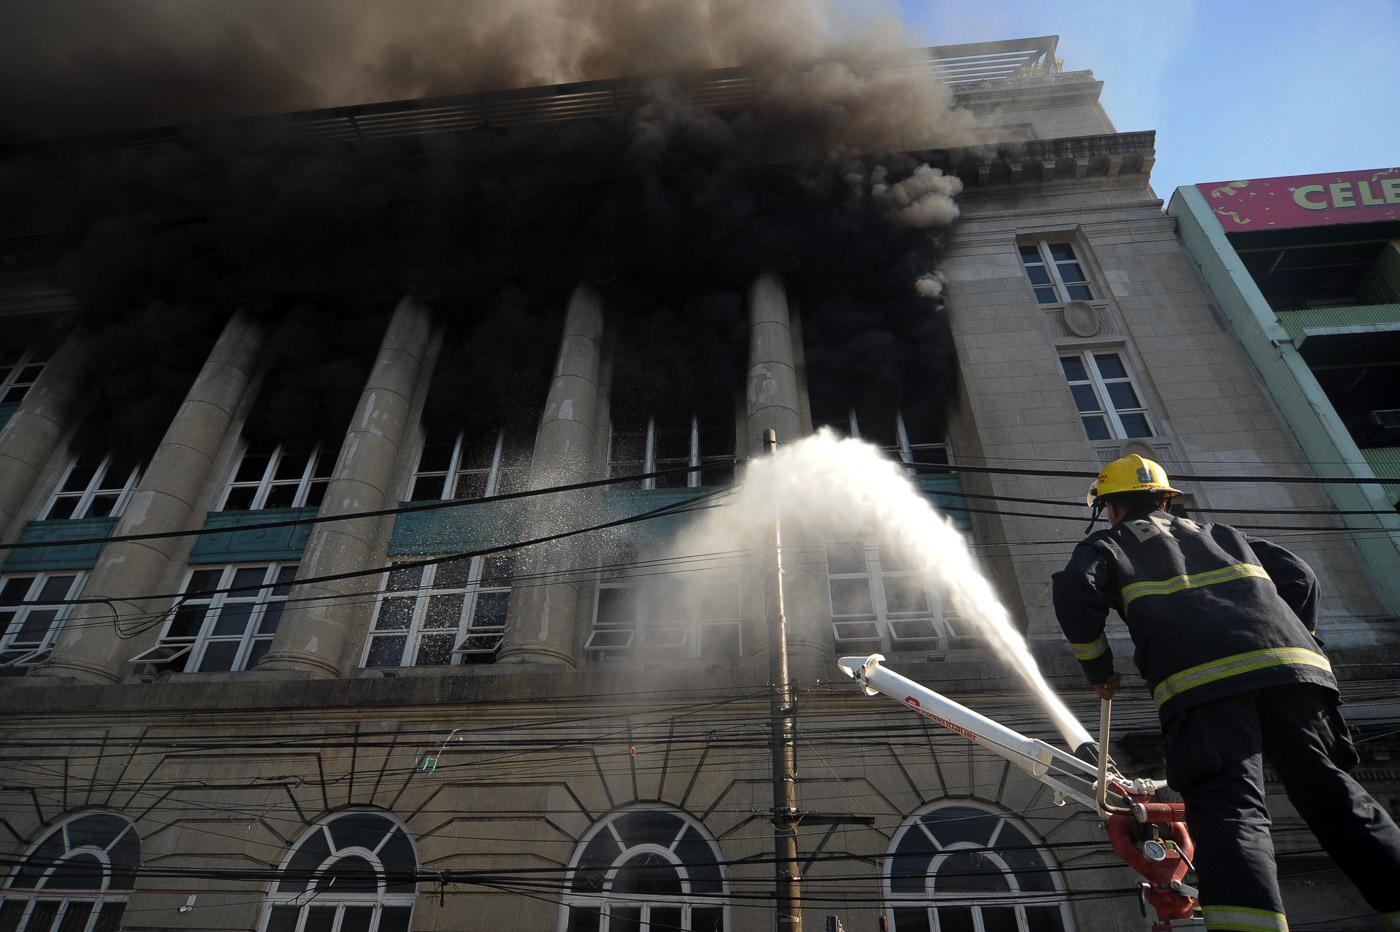smoke: (16, 0, 1027, 235), (785, 239, 966, 434), (51, 236, 203, 459), (250, 239, 395, 459), (426, 235, 570, 447), (606, 243, 753, 435)
